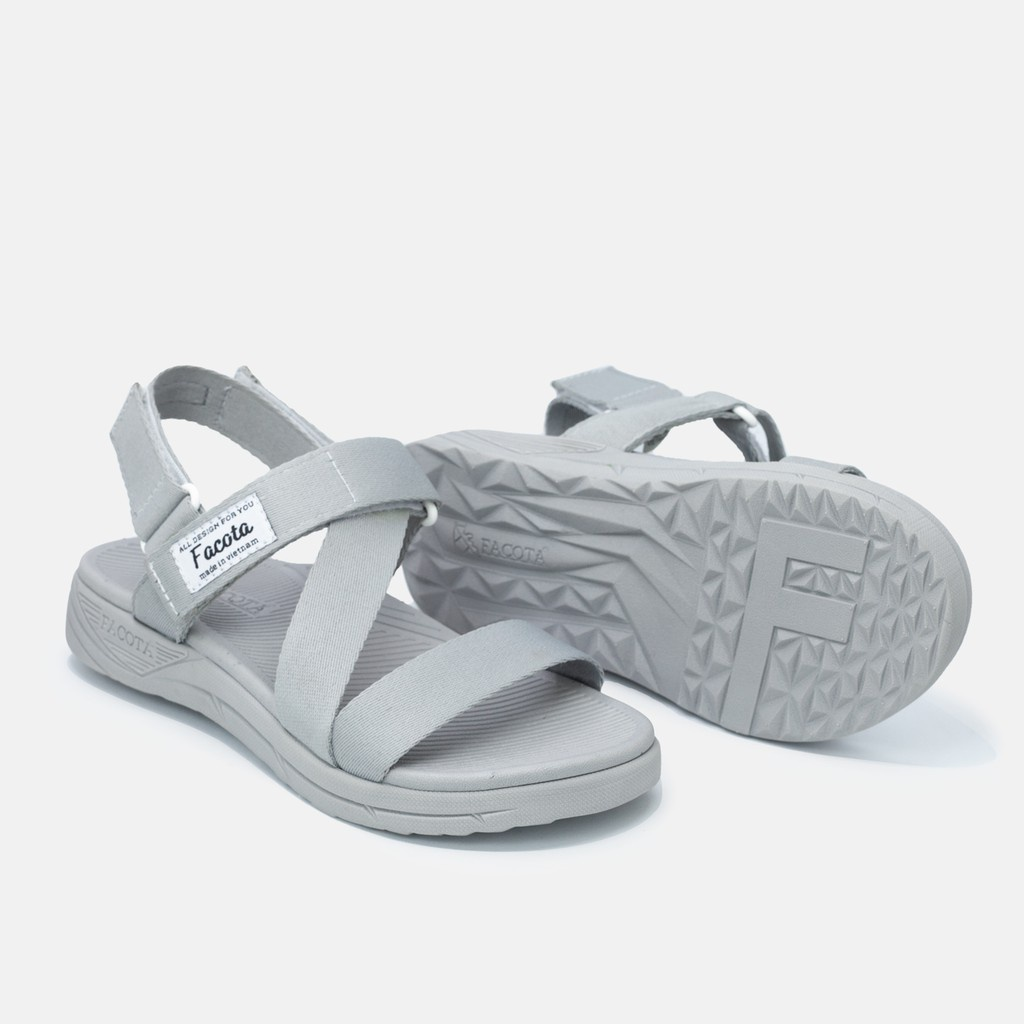sandals: (64, 359, 664, 838), (397, 366, 972, 745)
